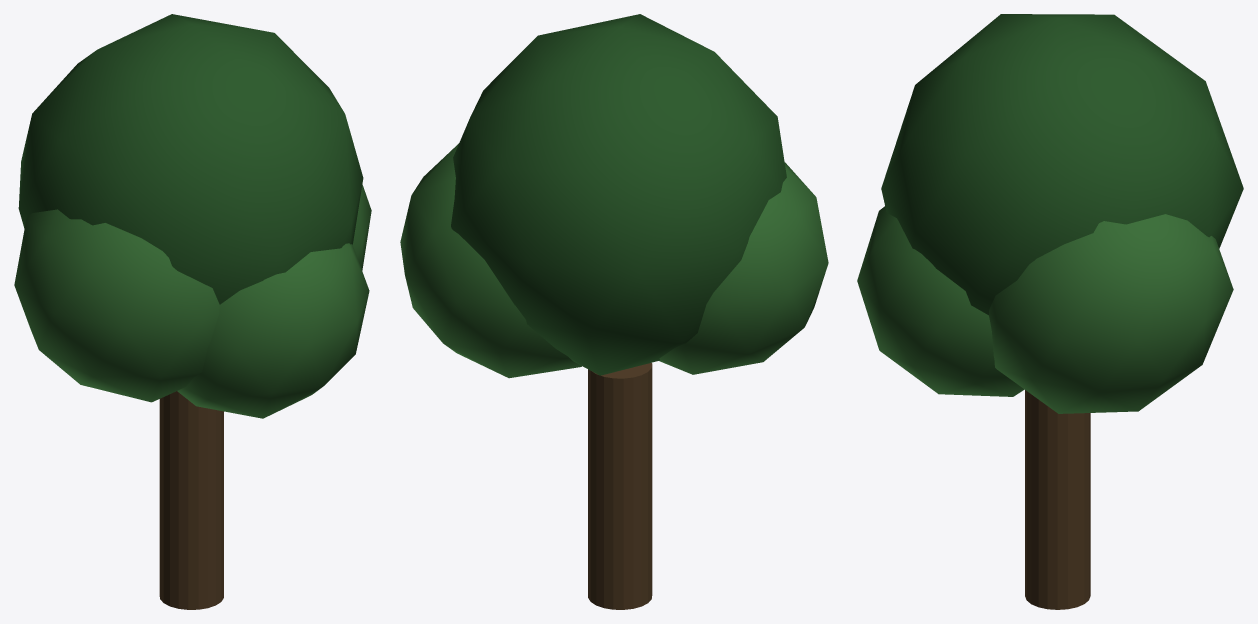
The model's file is tree_oak_01.glb.
The picture shows the model from 3 angles, left to right: view 1: azimuth 30°, elevation 25°; view 2: azimuth 150°, elevation 25°; view 3: azimuth 270°, elevation 25°; orthographic projection.
Visible parts, largest first — view 1: Cylinder; view 2: Cylinder; view 3: Cylinder.
Part boxes in pixels (<box>): Cylinder: <box>14,14,371,609</box>; Cylinder: <box>400,14,828,609</box>; Cylinder: <box>857,14,1243,609</box>.
Size of the model in its own units: 1.14 by 1.75 by 1.06.
